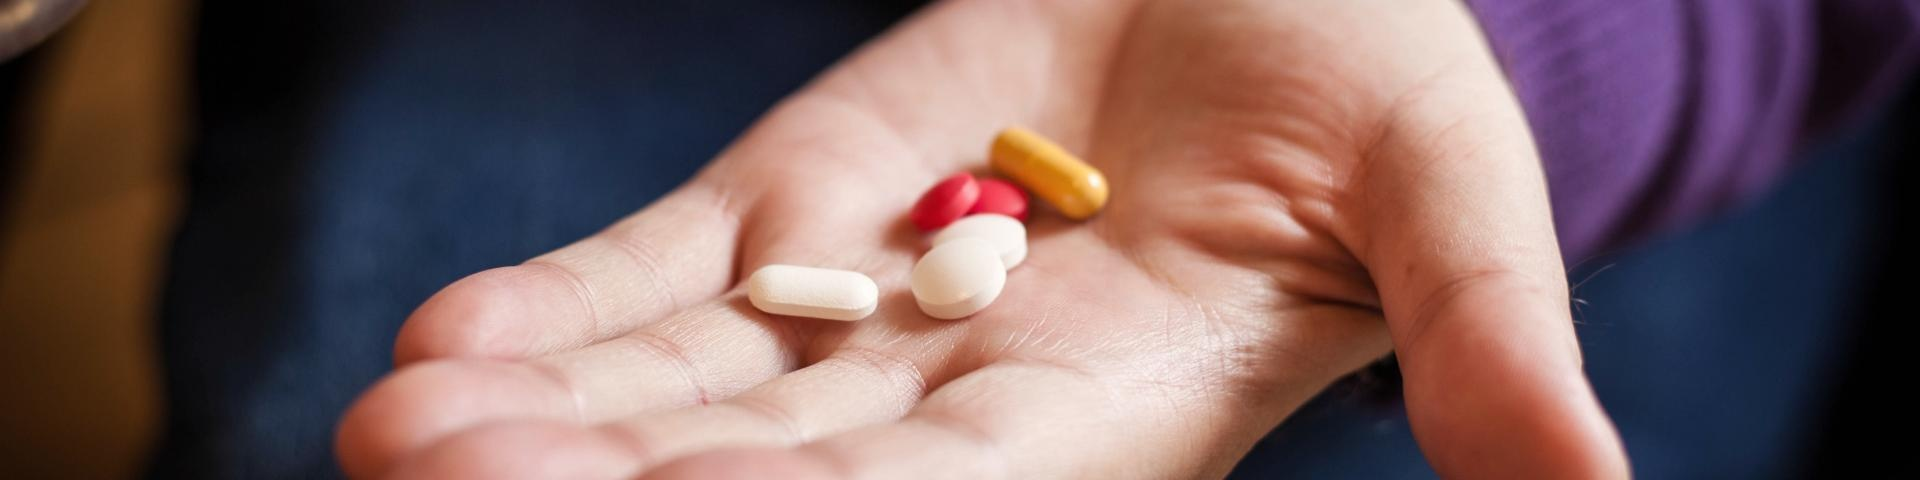pills: (719, 253, 887, 331), (989, 114, 1103, 223), (915, 242, 1007, 329)
